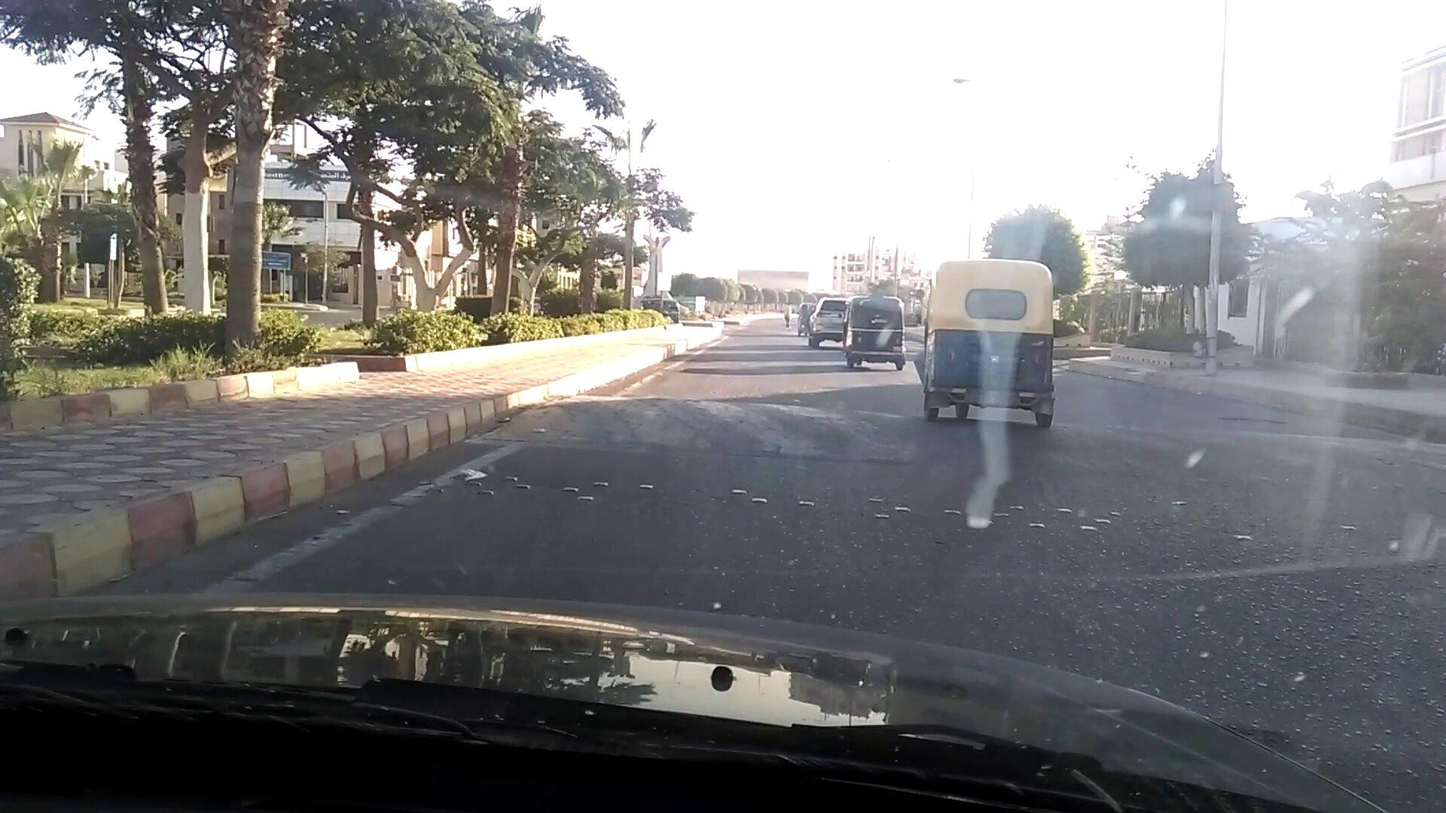Bump: (535, 391, 1446, 495)
